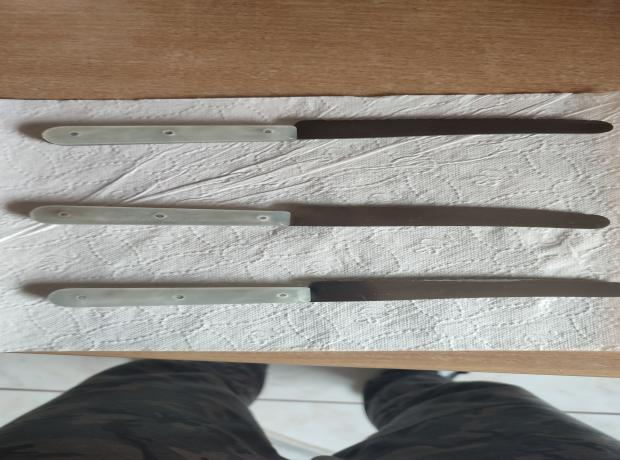metal: (50, 278, 618, 308), (40, 117, 614, 146), (29, 205, 611, 230)
